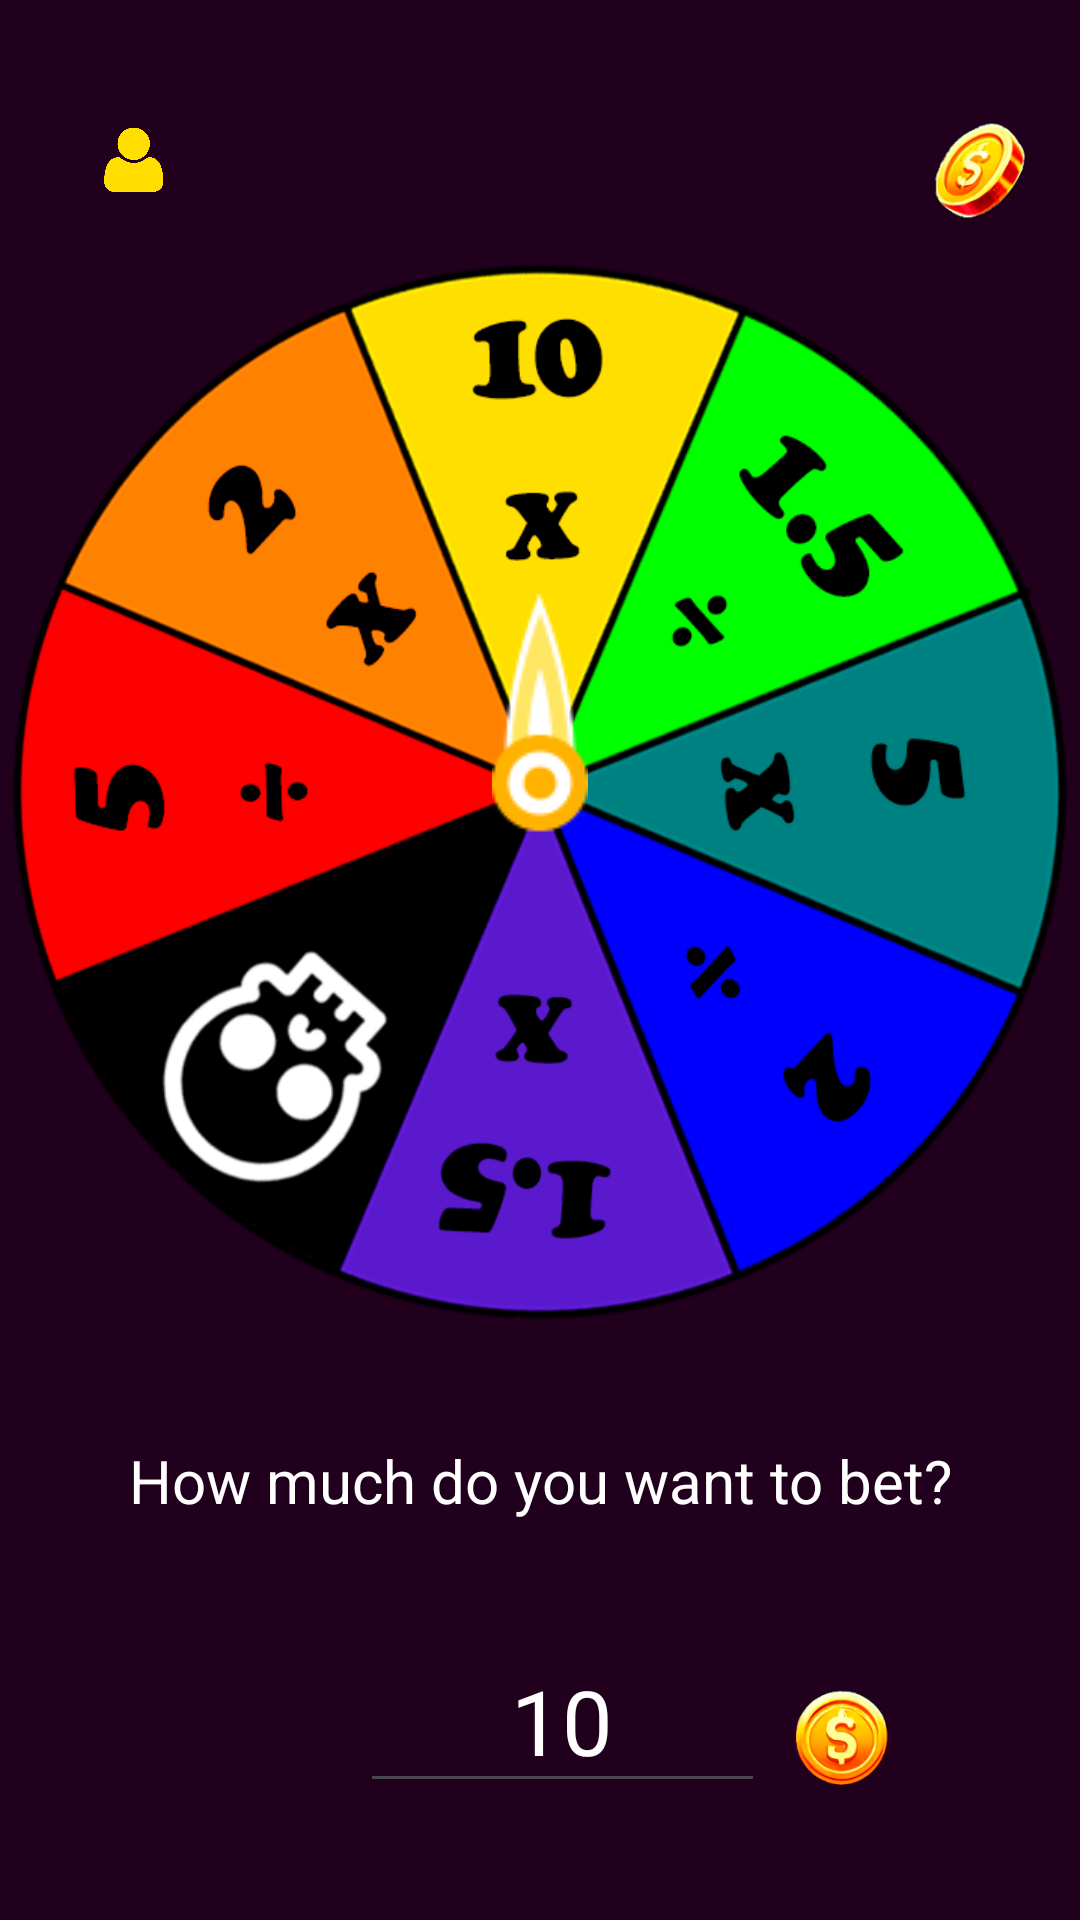

Where to tap for icons on this 1080w x 1920h app screen, as [x,y]:
moneda: [980,170], [842,1737]
pointer: [540,714]
user: [133,160]
